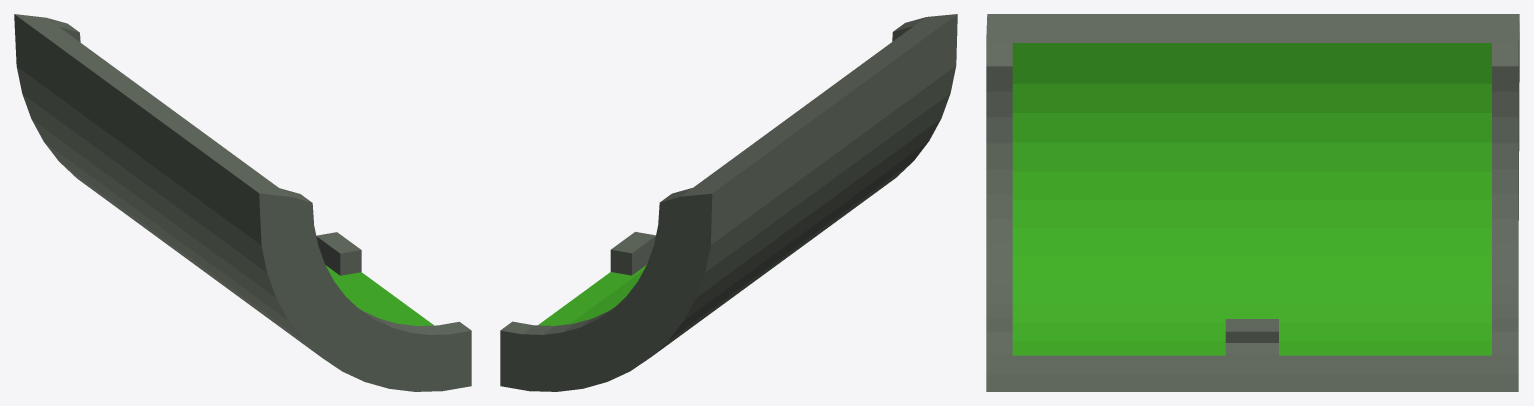
The model's file is HalfPipeWide.fbx.
3 views of the same model, side by side, from view 1: azimuth 30°, elevation 25°; view 2: azimuth 150°, elevation 25°; view 3: azimuth 270°, elevation 25° (orthographic). The views are drawn at different scales.
Visible parts, largest first — view 1: Plane.020; view 2: Plane.020; view 3: Plane.020.
Boxes of the visible parts, x1,y1,x2,y2 form: Plane.020: [14, 14, 471, 391]; Plane.020: [500, 14, 957, 391]; Plane.020: [986, 14, 1519, 391].
Bounding box in the file's own units: 200 × 220 × 401.
